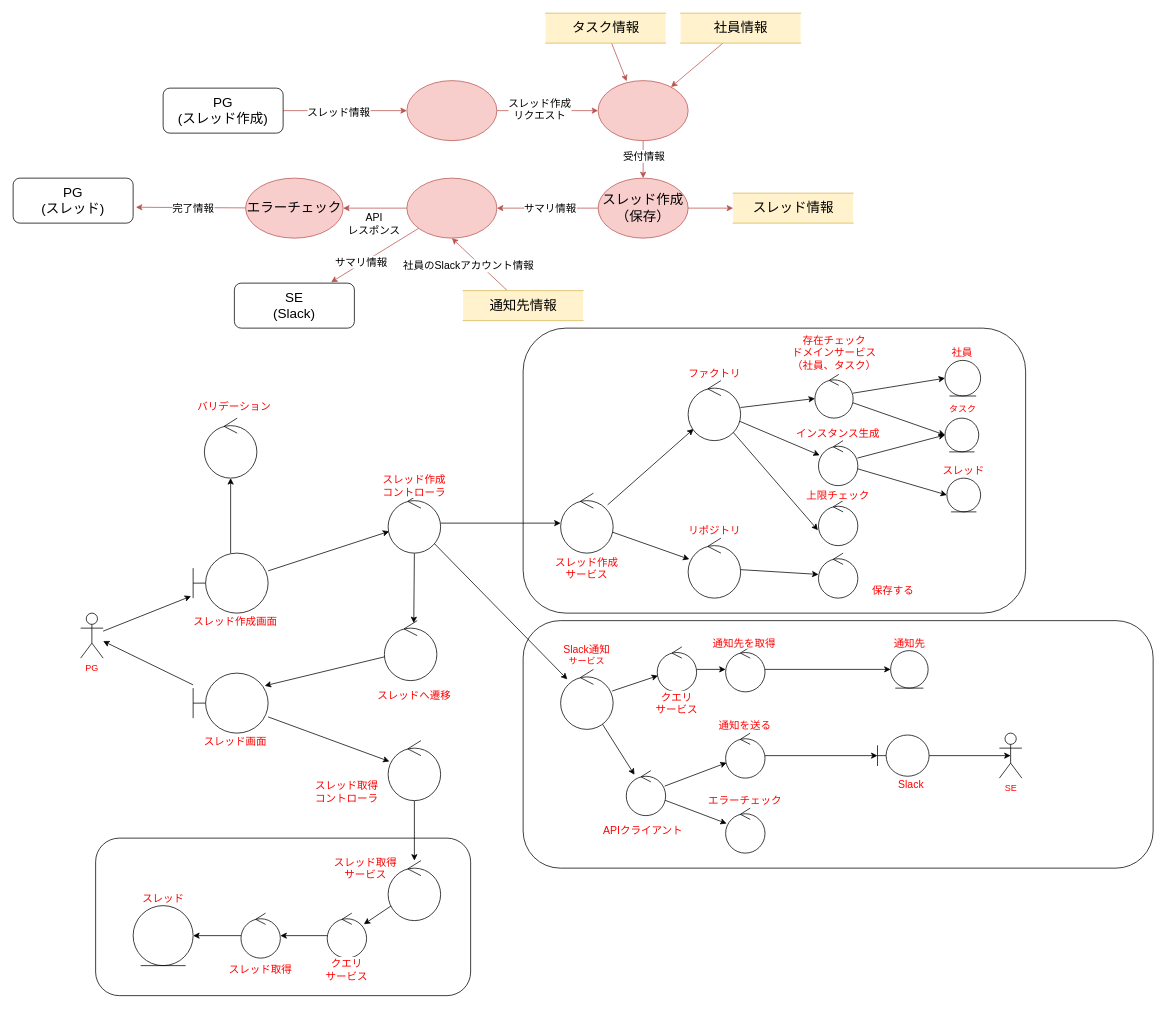
The diagram is 1166 pixels wide and 1009 high, and some of its shapes have lost their labels. Here are the shapes that lost their labels. From the top down, the centre of each, then its label:
At point (451, 110): "バリデー ション".
At point (642, 110): "存在チェック".
At point (451, 207): "Slack通知".
